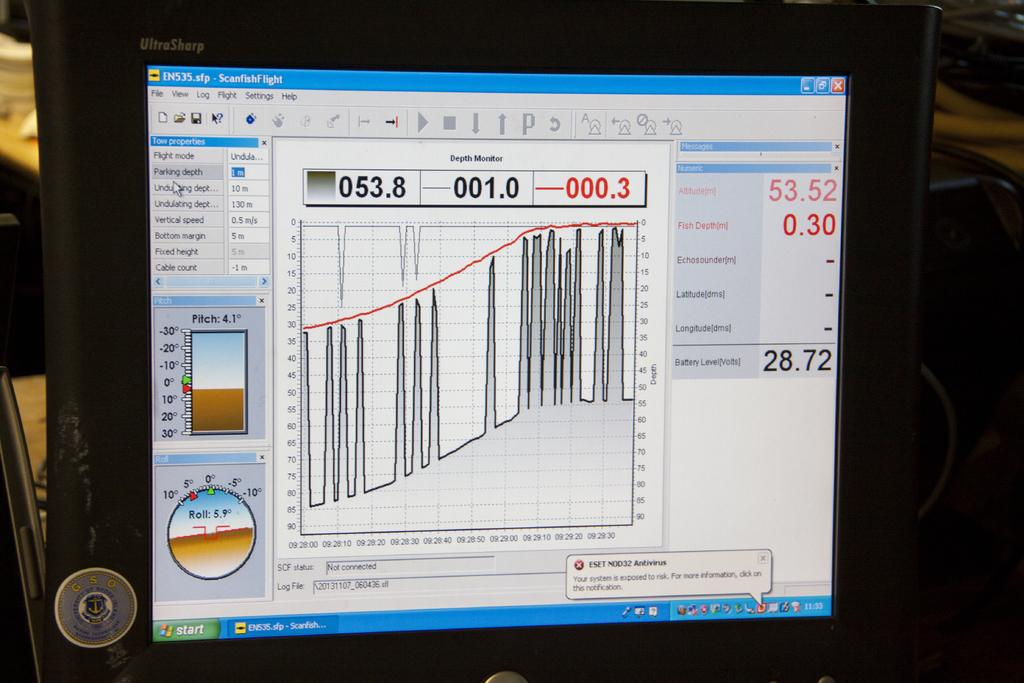Computer-monitor: (99, 28, 915, 683)
